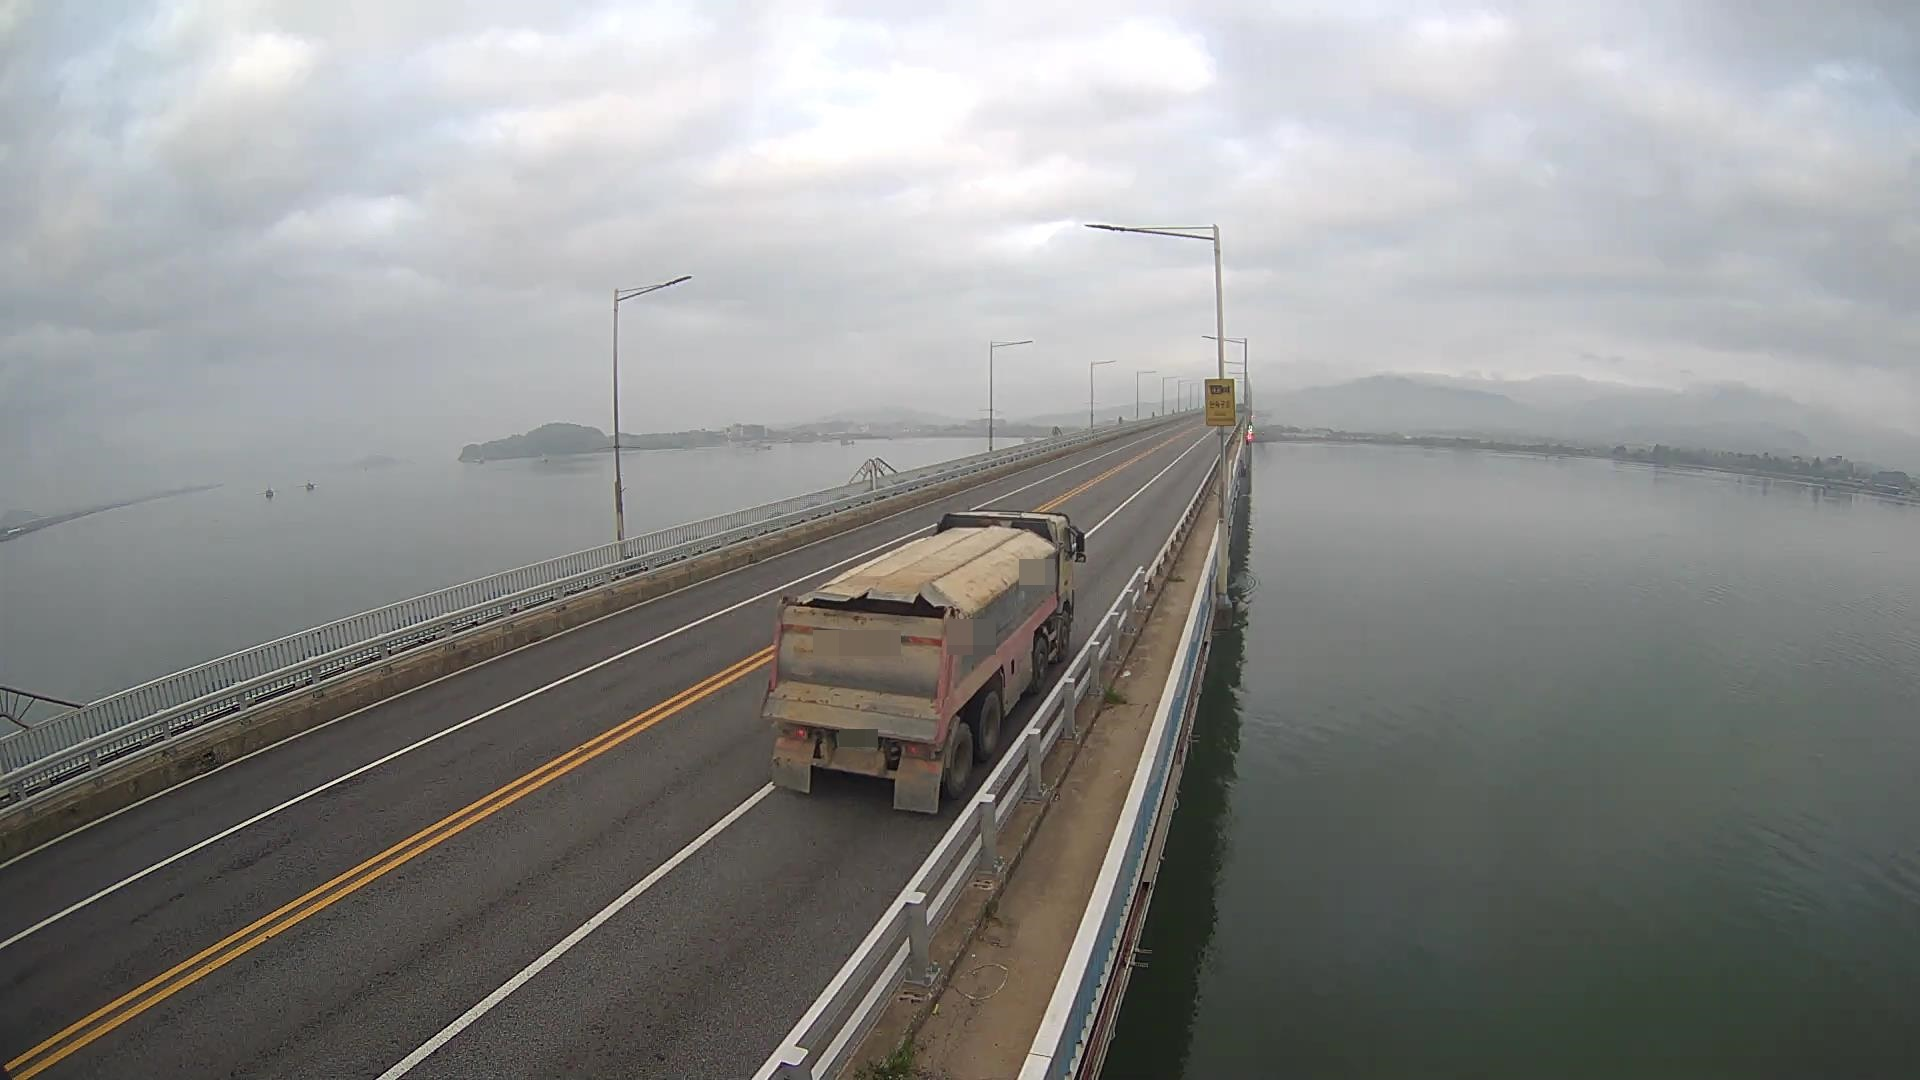정상차량: (761, 509, 1087, 813)
